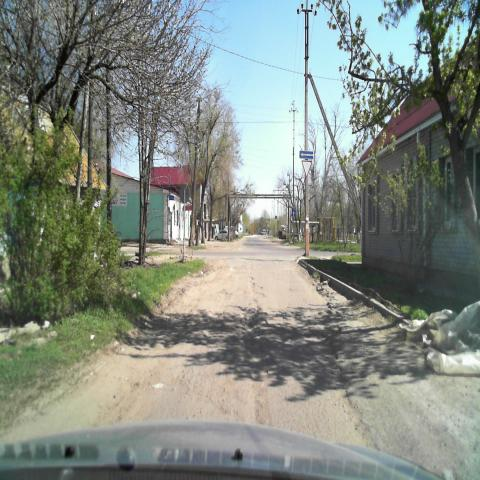1_21: (290, 207, 296, 215)
2_4: (301, 159, 312, 178)
5_7_2: (300, 149, 314, 159)
